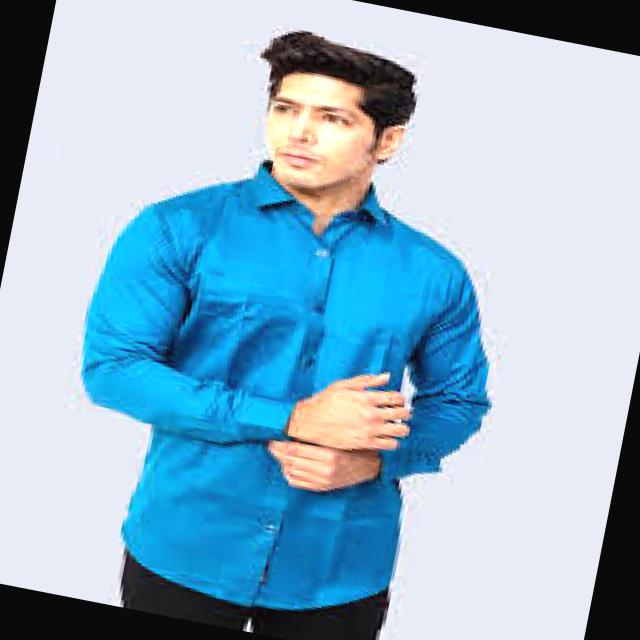face: (240, 28, 426, 206)
lower-wear: (97, 530, 406, 640)
top-wear: (38, 135, 528, 634)
